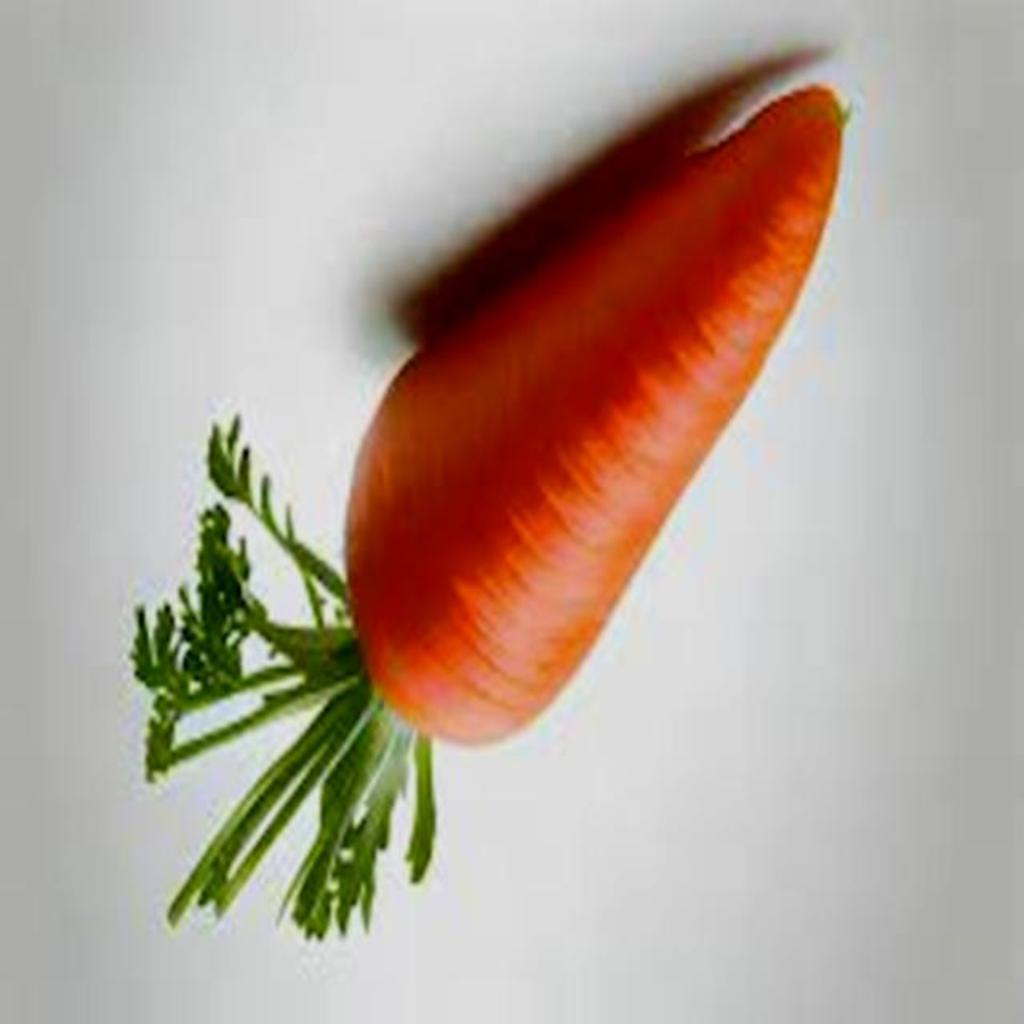carrot: (136, 90, 844, 937)
